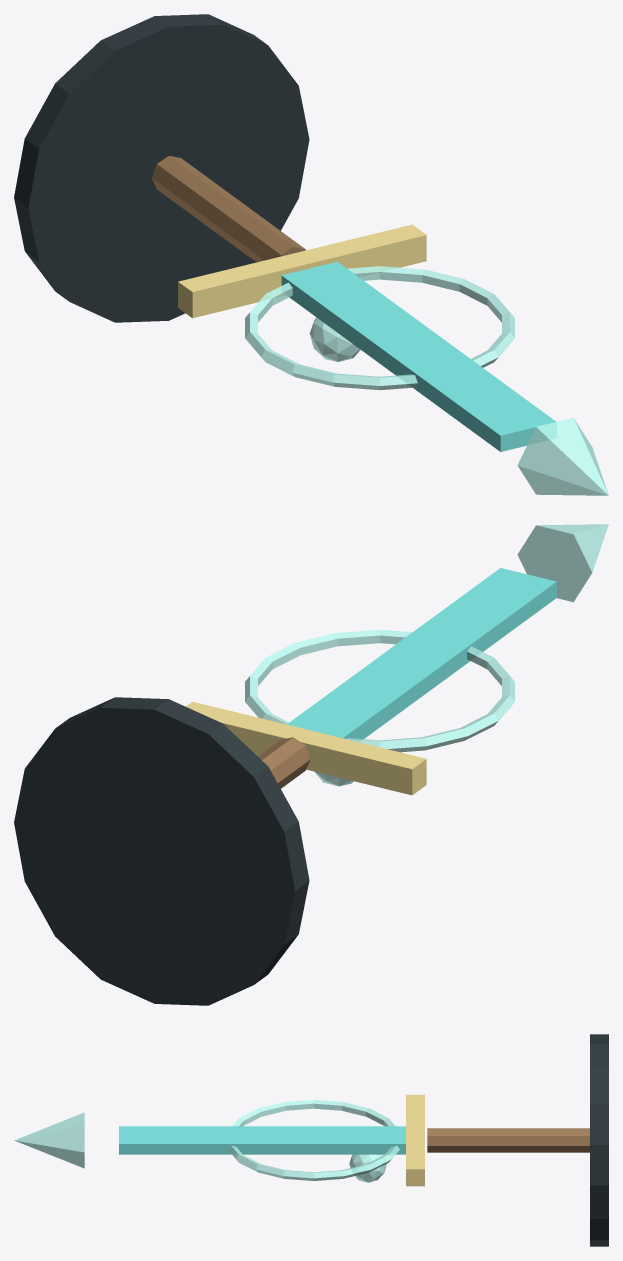
File: 03_high_tier_magic_weapon.glb
3 views of the same model, one above another, from view 1: azimuth 30°, elevation 25°; view 2: azimuth 150°, elevation 25°; view 3: azimuth 270°, elevation 25° (orthographic). The views are drawn at different scales.
Visible parts, largest first — view 1: weapon_display_base, magic_blade_or_staff_core, relic_guard, weapon_aura_ring, weapon_grip, weapon_tip, socketed_gem; view 2: weapon_display_base, magic_blade_or_staff_core, relic_guard, weapon_aura_ring, weapon_tip, weapon_grip; view 3: magic_blade_or_staff_core, weapon_grip, weapon_display_base, weapon_aura_ring, weapon_tip, relic_guard, socketed_gem.
Part boxes in pixels (box(x1,y1,x2,y2)): weapon_display_base: box(14, 14, 309, 322); magic_blade_or_staff_core: box(281, 261, 556, 451); relic_guard: box(178, 224, 426, 318); weapon_aura_ring: box(245, 266, 514, 390); weapon_grip: box(152, 156, 305, 262); weapon_tip: box(517, 417, 608, 495); socketed_gem: box(309, 317, 360, 361); weapon_display_base: box(14, 697, 309, 1005); magic_blade_or_staff_core: box(287, 568, 556, 741); relic_guard: box(186, 701, 426, 795); weapon_aura_ring: box(245, 629, 514, 752); weapon_tip: box(517, 524, 608, 602); weapon_grip: box(258, 737, 310, 788); magic_blade_or_staff_core: box(119, 1126, 405, 1154); weapon_grip: box(427, 1128, 589, 1152); weapon_display_base: box(590, 1034, 608, 1246); weapon_aura_ring: box(227, 1100, 399, 1180); weapon_tip: box(14, 1112, 84, 1168); relic_guard: box(406, 1094, 424, 1186); socketed_gem: box(349, 1154, 386, 1182).
Bounding box in the file's own units: 0.9 × 0.9 × 2.52.
